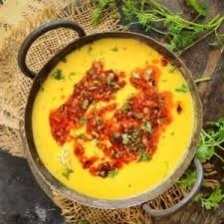dal: (31, 36, 197, 199)
